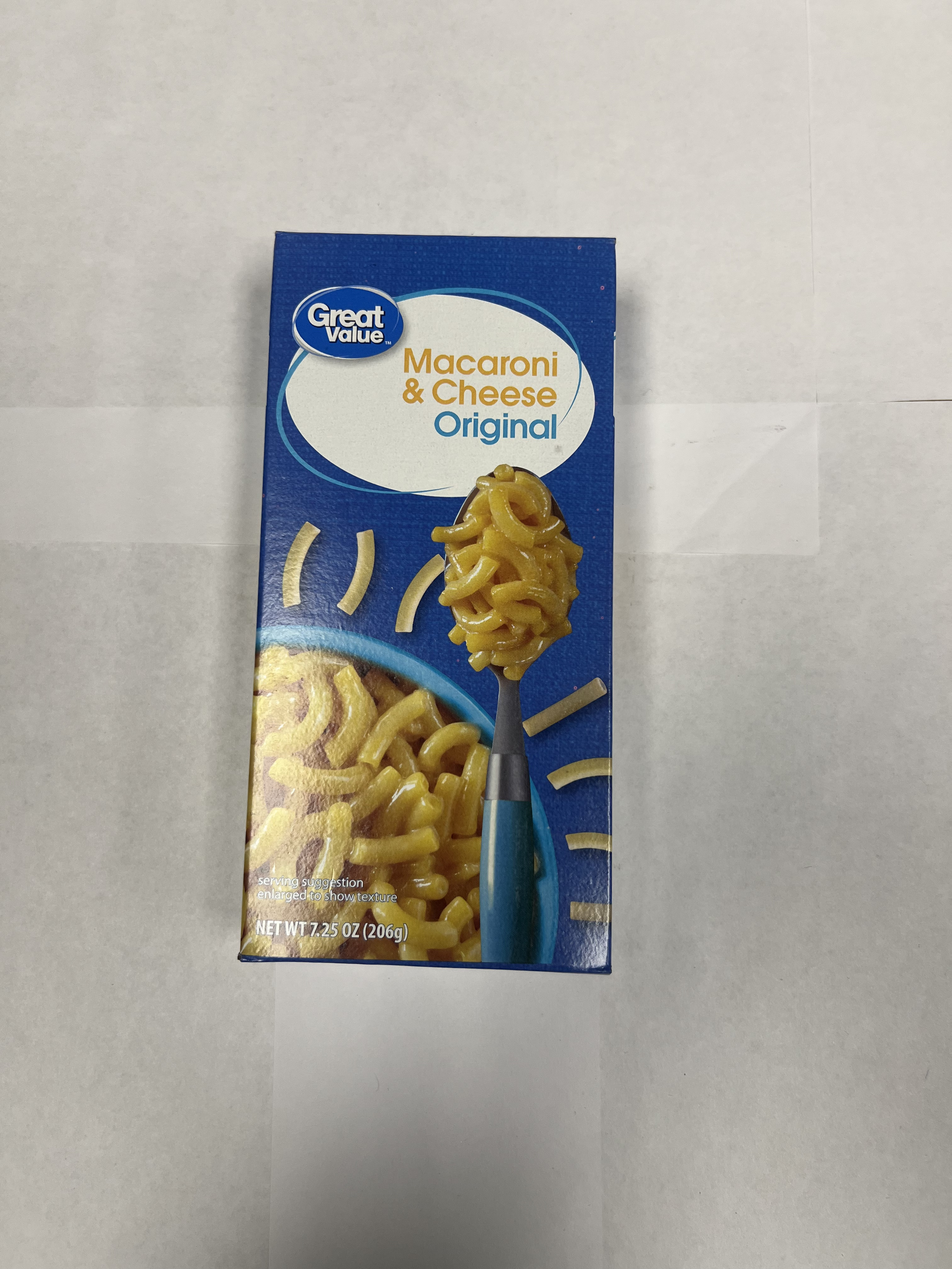packaged: (237, 222, 623, 980)
